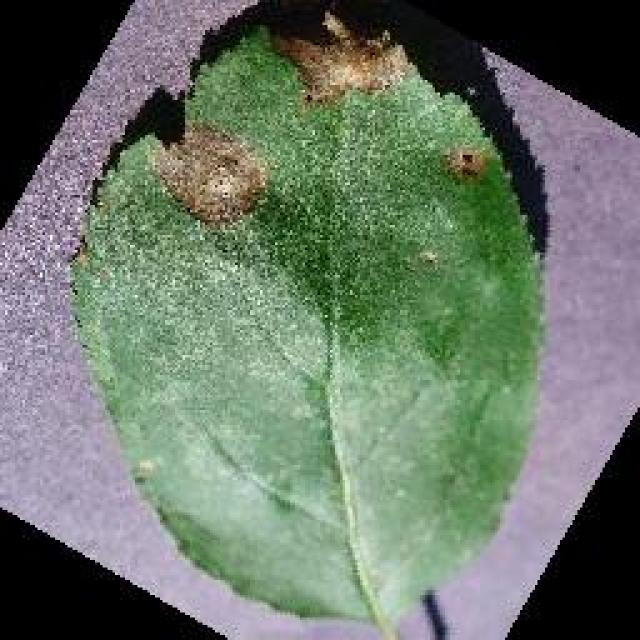Black_rot: (65, 5, 547, 637)
